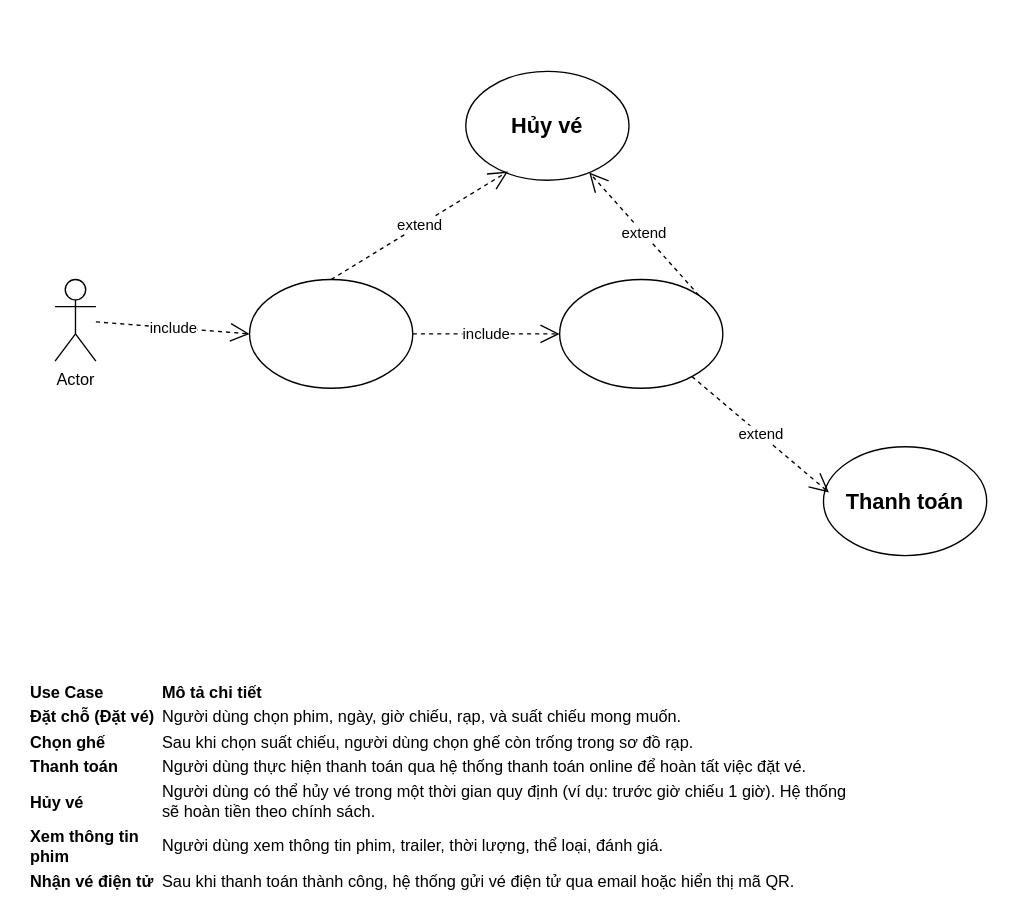
Some shapes in this 1010 by 918 pixel diagram are drawn without their labels. The centre of each missing label's shape, as x and y in pixels:
"Chọn ghế" belongs at point 640,333.
"Đặt chỗ" belongs at point 330,333.
